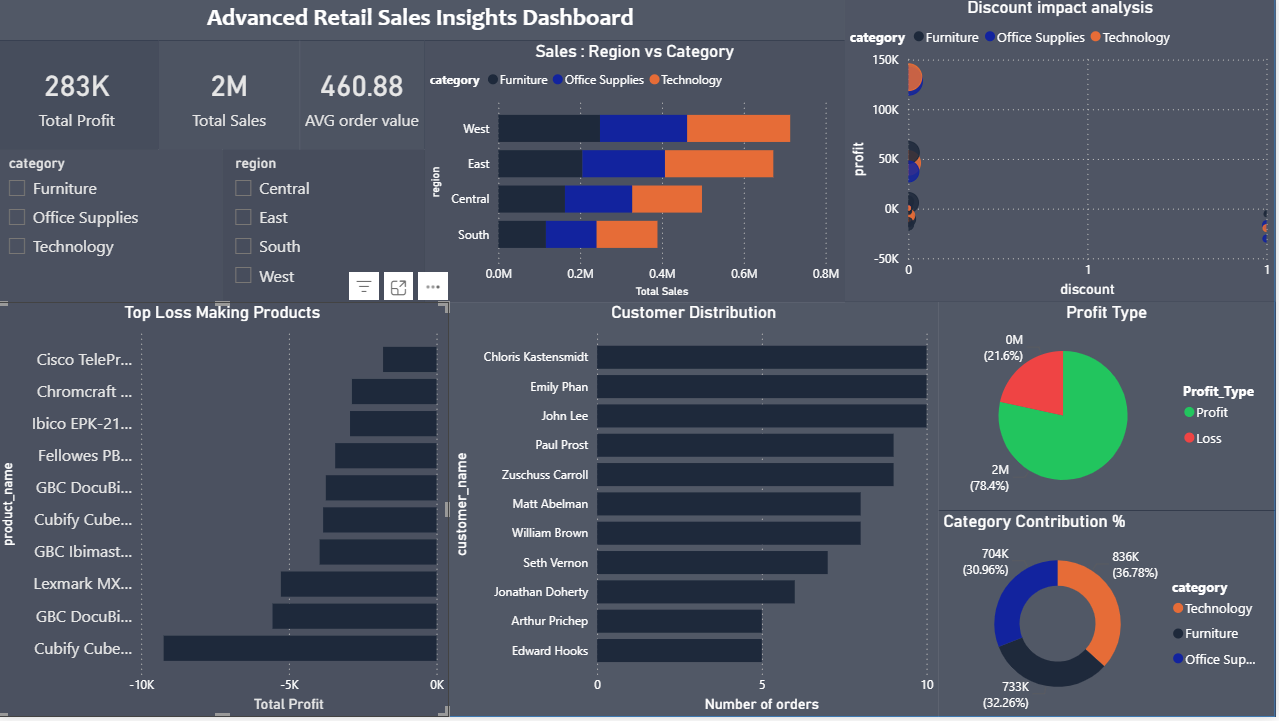

The page's visual inventory and layout, read from the dashboard file:
{"tool":"powerbi","page":{"name":"Page 1","canvas":[1280,720],"ordinal":0},"visuals":[{"type":"shape","box":[0,0,1279.5,720.2],"z":0},{"type":"textbox","box":[0,0,848.6,43.6],"z":1000},{"type":"card","fields":{"Values":["Sum(profit_category.profit)"]},"box":[0,43.6,162.2,108.9],"z":2000},{"type":"card","fields":{"Values":["Sum(monthly_sales.sales)"]},"box":[162.2,43.6,141.6,108.9],"z":3000},{"type":"slicer","fields":{"Values":["Category_Table.category"]},"box":[0,152.5,226.4,152.5],"z":4000},{"type":"slicer","fields":{"Values":["Region_Table.region"]},"box":[226.4,152.5,202.2,152.5],"z":5000},{"type":"scatterChart","title":"Discount impact analysis","fields":{"X":["discount_impact.discount"],"Y":["discount_impact.profit"],"Series":["discount_impact.category"],"Size":["Sum(discount_impact.sales)"]},"box":[848.6,0,430.9,305],"z":6000},{"type":"barChart","title":"Sales : Region vs Category","fields":{"Category":["region_performance.region"],"Series":["region_performance.category"],"Y":["Sum(region_performance.sales)"]},"box":[428.5,43.6,420,261.5],"z":7000},{"type":"barChart","title":"Top Loss Making Products","fields":{"Category":["loss_products.product_name"],"Y":["Sum(loss_products.profit)"]},"box":[0,305,452.7,415.2],"z":8000},{"type":"donutChart","title":"Category Contribution %","fields":{"Category":["category_sales.category"],"Y":["Sum(category_sales.sales)"]},"box":[943,513.3,336.5,207],"z":9000},{"type":"barChart","title":"Customer Distribution","fields":{"Category":["customers orders count.customer_name"],"Y":["CountNonNull(customers orders count.order_id)"]},"box":[452.7,305,490.3,415.2],"z":10000},{"type":"pieChart","title":"Profit Type","fields":{"Category":["full data.Profit_Type"],"Y":["Sum(full data.sales)"]},"box":[943,305,336.5,208.2],"z":11000},{"type":"card","fields":{"Values":["category_sales.AVG order value"]},"box":[303.8,43.6,124.7,108.9],"z":12000}]}

Visuals, with their boxes in screenshot pixels (x1, y1, x2, y2), scaled from the page's 1280x720 canvas onto the 1279x721 screenshot:
shape: box=[0, 0, 1278, 720]
textbox: box=[0, 0, 848, 44]
card - Sum(profit_category.profit): box=[0, 44, 162, 153]
card - Sum(monthly_sales.sales): box=[162, 44, 304, 153]
slicer - Category_Table.category: box=[0, 153, 226, 305]
slicer - Region_Table.region: box=[226, 153, 428, 305]
"Discount impact analysis" scatterChart: box=[848, 0, 1278, 305]
"Sales : Region vs Category" barChart: box=[428, 44, 848, 306]
"Top Loss Making Products" barChart: box=[0, 305, 452, 720]
"Category Contribution %" donutChart: box=[942, 514, 1278, 720]
"Customer Distribution" barChart: box=[452, 305, 942, 720]
"Profit Type" pieChart: box=[942, 305, 1278, 514]
card - category_sales.AVG order value: box=[304, 44, 428, 153]
